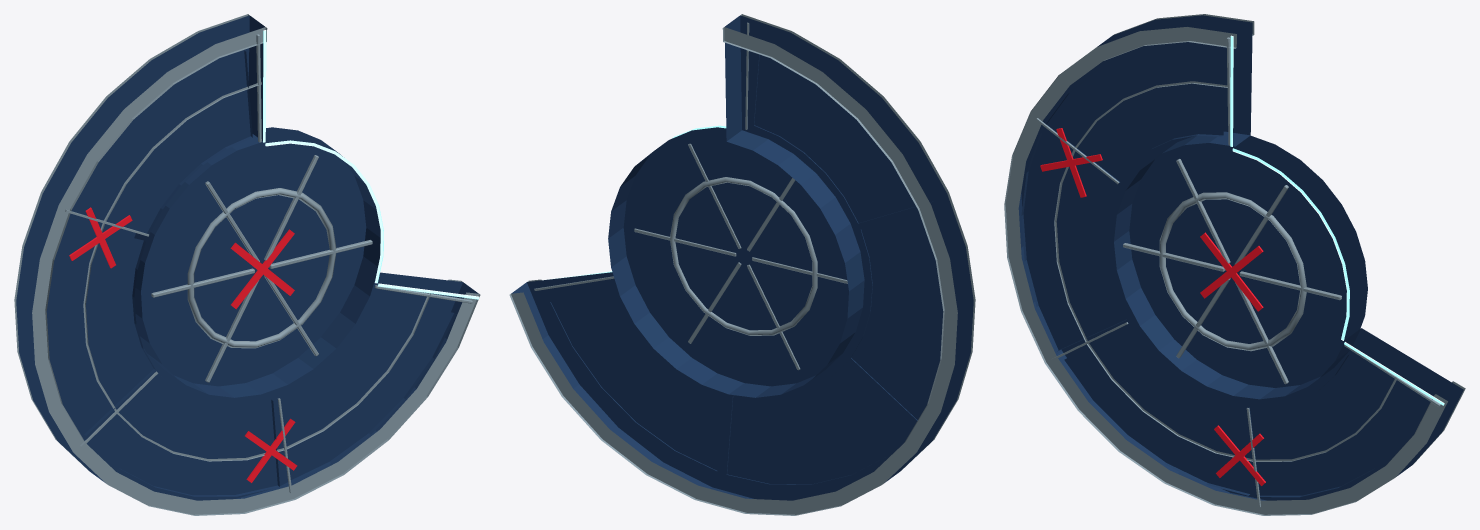
Rendered from foundry-panel-fun11-low.glb.
3 renders of one model, left to right at view 1: azimuth 30°, elevation 25°; view 2: azimuth 150°, elevation 25°; view 3: azimuth 330°, elevation 25°, orthographic.
Visible parts, largest first — view 1: RENDER_PANEL_SHELL, RENDER_PANEL_FRAME, RENDER_PANEL_HAZARD, RENDER_PANEL_SIGNAL; view 2: RENDER_PANEL_SHELL, RENDER_PANEL_FRAME; view 3: RENDER_PANEL_SHELL, RENDER_PANEL_FRAME, RENDER_PANEL_HAZARD, RENDER_PANEL_SIGNAL.
Part boxes in pixels (left/top/right/bottom): RENDER_PANEL_SHELL: left=16, top=15, right=478, bottom=500; RENDER_PANEL_FRAME: left=14, top=14, right=480, bottom=515; RENDER_PANEL_HAZARD: left=69, top=207, right=297, bottom=482; RENDER_PANEL_SIGNAL: left=263, top=30, right=479, bottom=299; RENDER_PANEL_SHELL: left=511, top=15, right=973, bottom=500; RENDER_PANEL_FRAME: left=509, top=14, right=975, bottom=515; RENDER_PANEL_SHELL: left=1018, top=15, right=1463, bottom=500; RENDER_PANEL_FRAME: left=1004, top=14, right=1465, bottom=515; RENDER_PANEL_HAZARD: left=1040, top=128, right=1265, bottom=485; RENDER_PANEL_SIGNAL: left=1230, top=35, right=1444, bottom=405.
Size of what is drawn, in the model's own units: 39.86 by 40.94 by 3.09.
